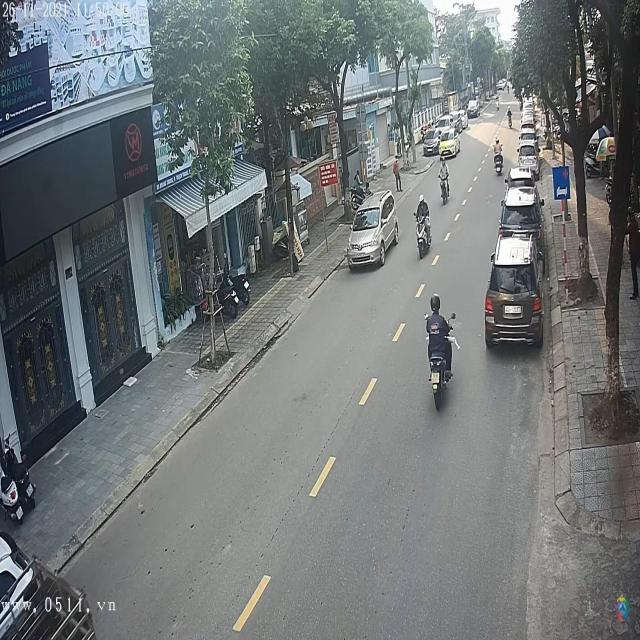car: (485, 234, 543, 348), (347, 189, 399, 270), (499, 190, 545, 238), (437, 131, 460, 160), (468, 99, 482, 117)
motorcycle: (426, 333, 456, 398), (417, 215, 434, 257), (439, 175, 451, 204), (495, 151, 505, 174)
